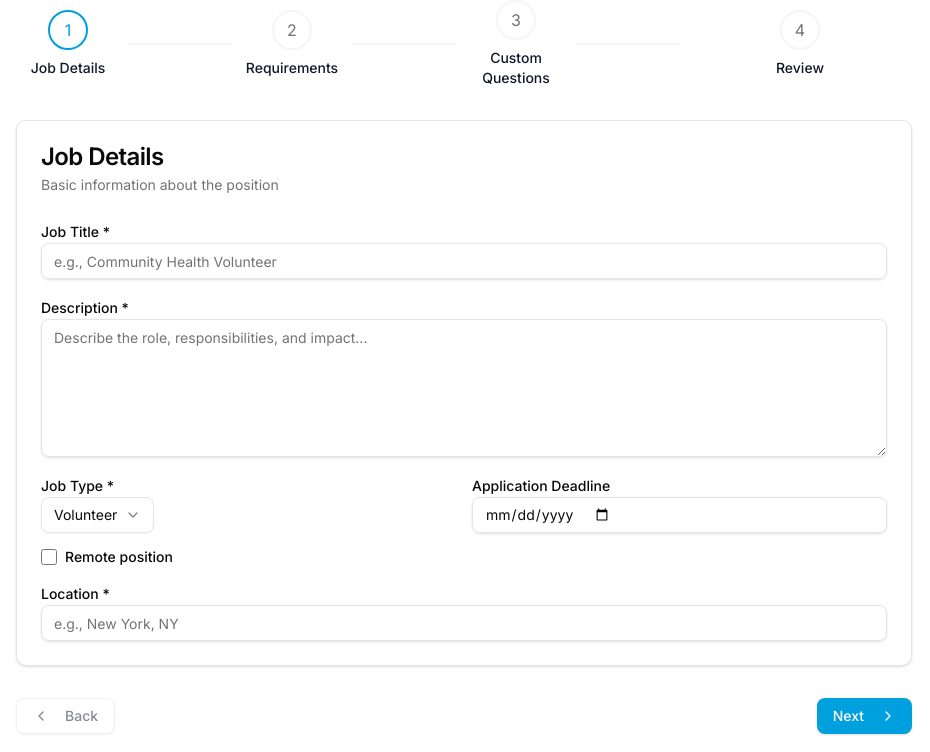
it: JobForm › Skills Management › adds skills when Enter is pressed
// Navigate to requirements
Type "Test" into the field labelled "Job Title *". click: (464, 261)
box: [41,243,887,279]
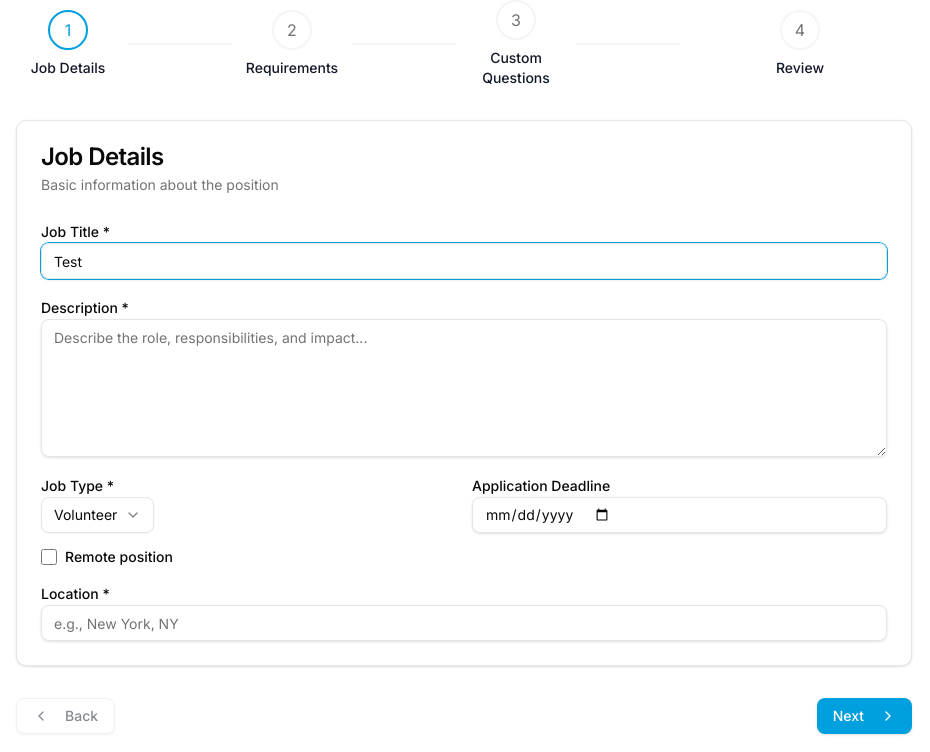
Type "Test" into the text box labelled "Description *". click: (464, 388)
box: [41,319,887,457]
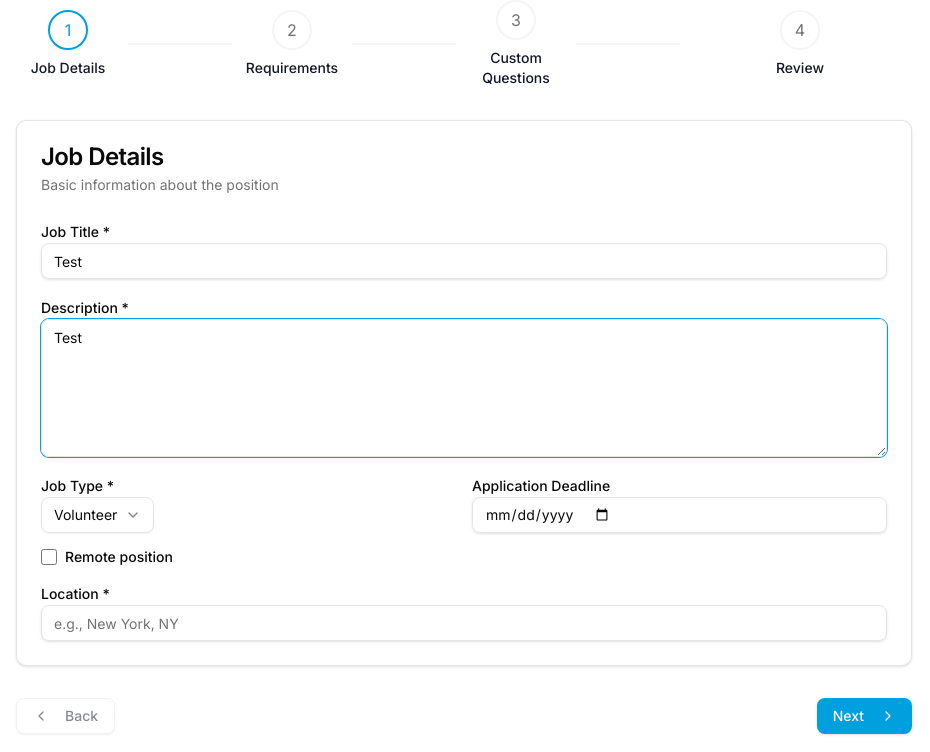
Click the checkbox labelled "Remote position". click: (49, 557)
box: [41,549,57,565]
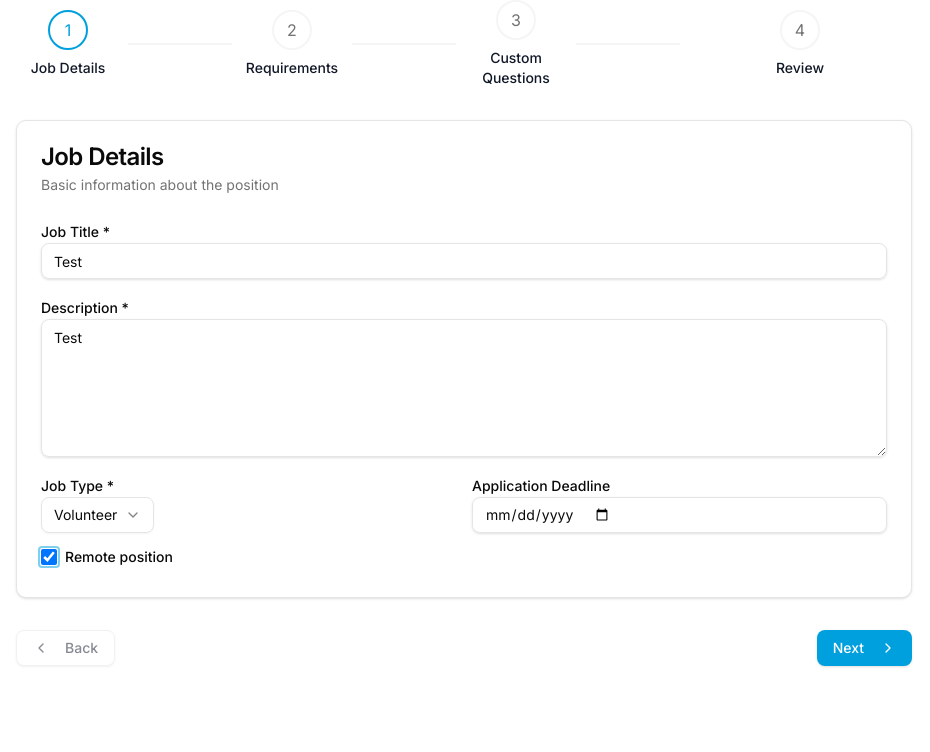
Click the button "Next". click: (864, 648)
box: [817,630,912,666]
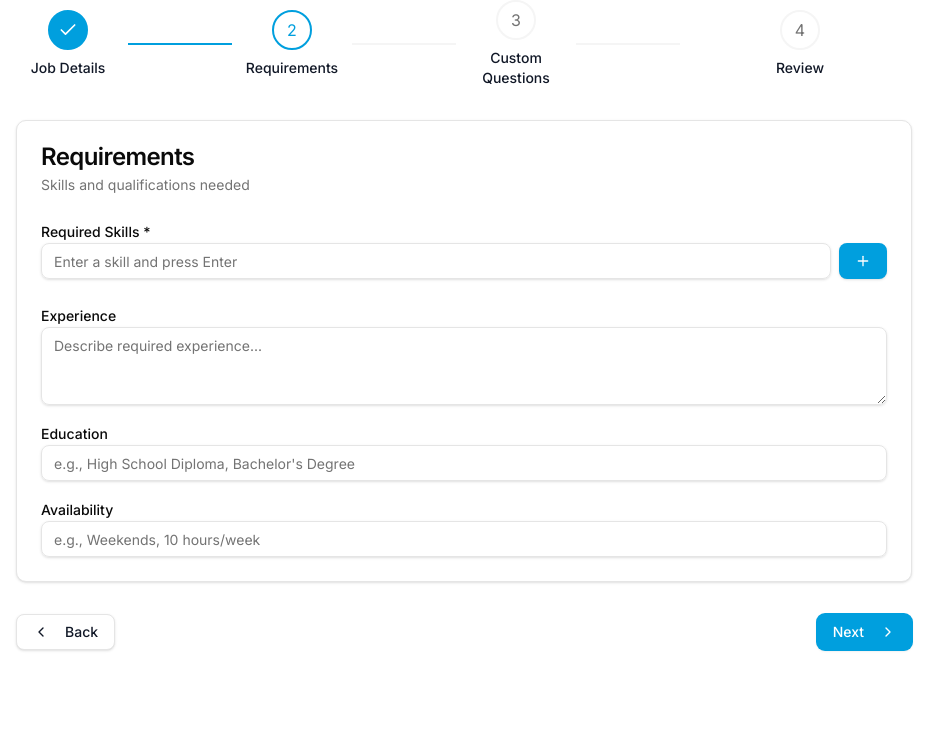
// Add skills
Type "React" into the field with placeholder "Enter a skill and press Enter". click: (436, 261)
box: [41,243,831,279]
Then press Enter
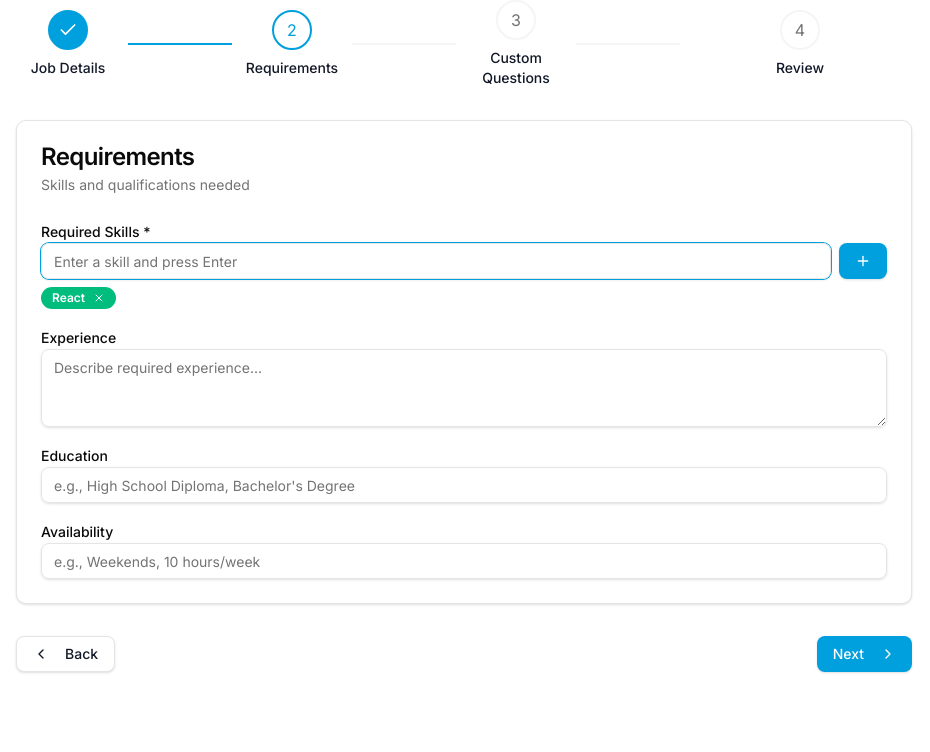
Expected: the text "React" is shown, [41,287,116,309]
Type "Node.js" into the field with placeholder "Enter a skill and press Enter". click: (436, 261)
box: [41,243,831,279]
Then press Enter
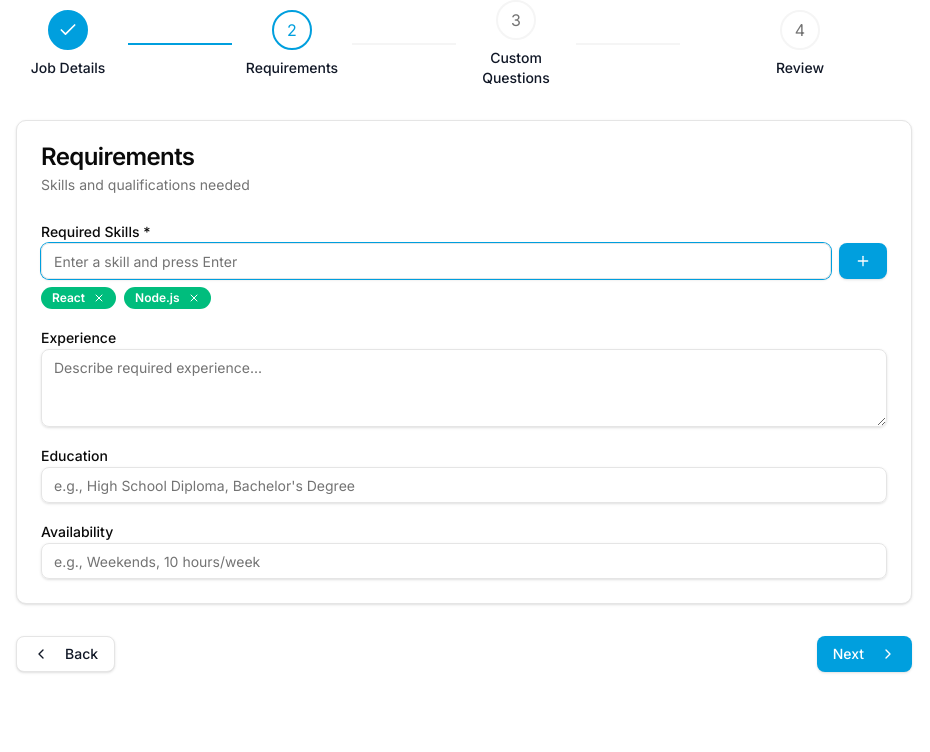
Expected: the text "Node.js" is shown, [124,287,211,309]
